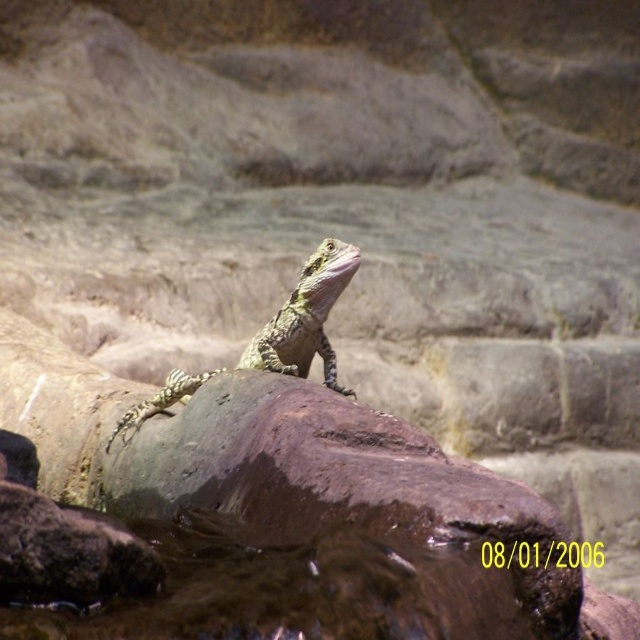Lizard: (106, 233, 360, 449)
